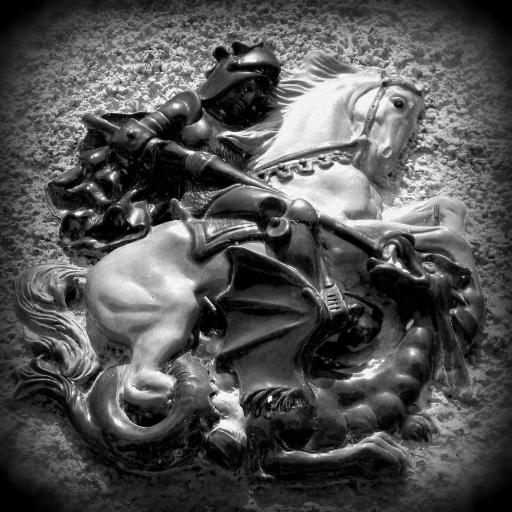Horse: (12, 49, 487, 473)
